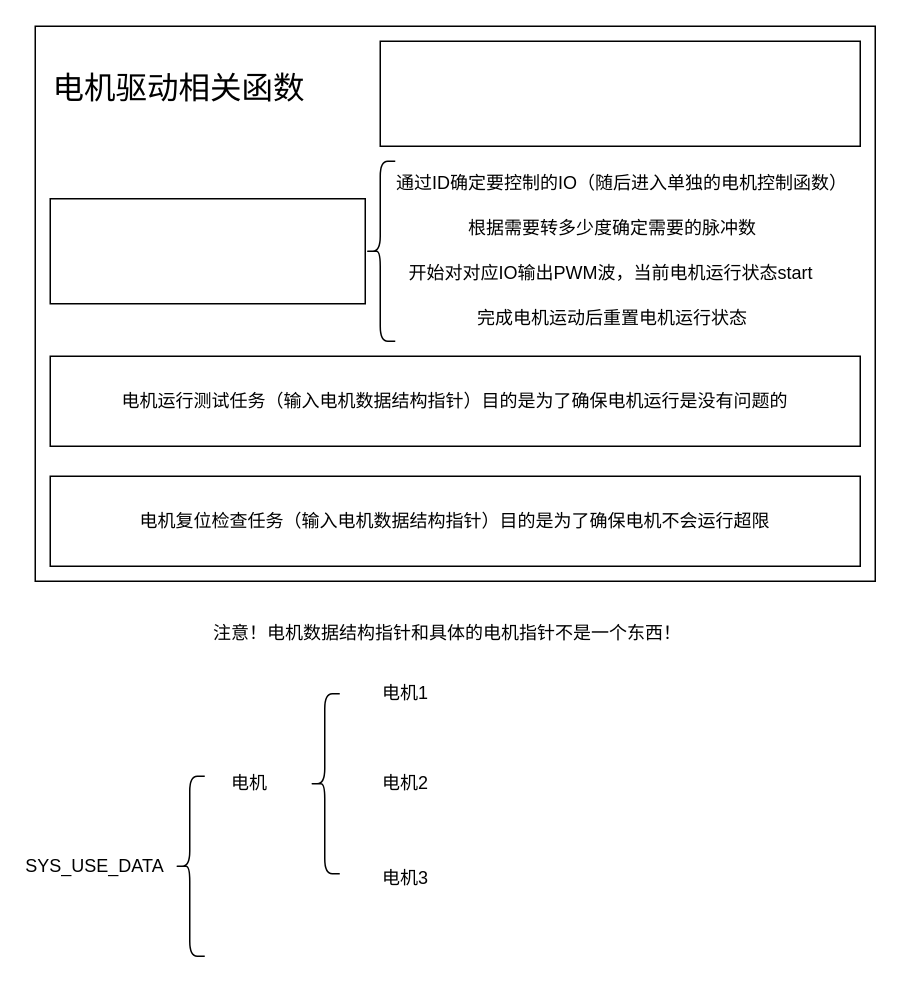
Some shapes in this 902 by 983 pixel diagram are drawn without their labels. The centre of each missing label's shape, as x and y in pixels:
"电机数据结构（正反转，需要转多少度，需要执行的脉冲数，电机当前运行状态，当前电机复位状态，当前电机ID）" goes at [619,93].
"电机运动函数（电机数据结构指针）" goes at [207,250].
